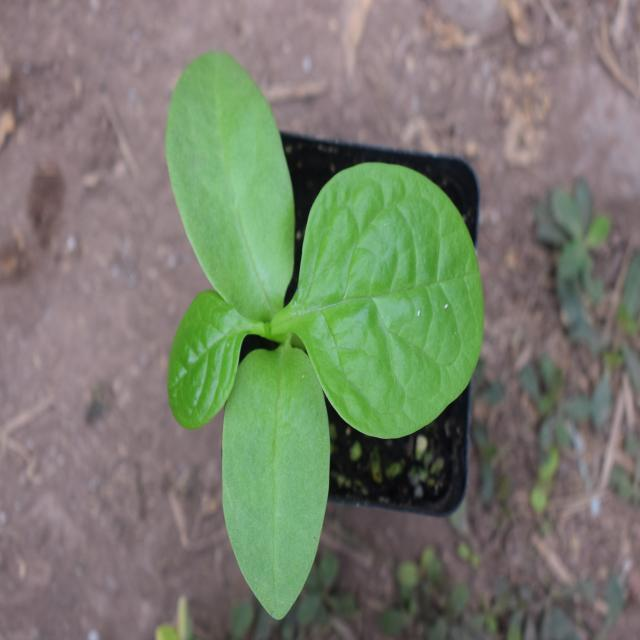Ceylon spinach: (163, 45, 486, 601)
